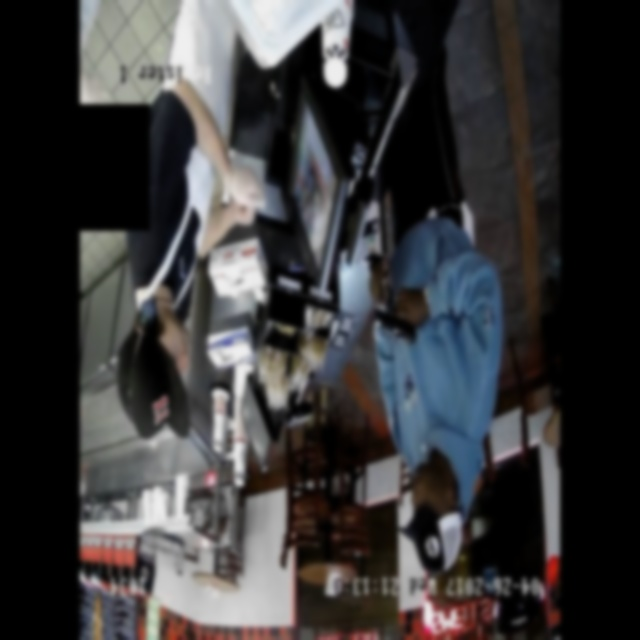gun: (363, 284, 429, 367)
